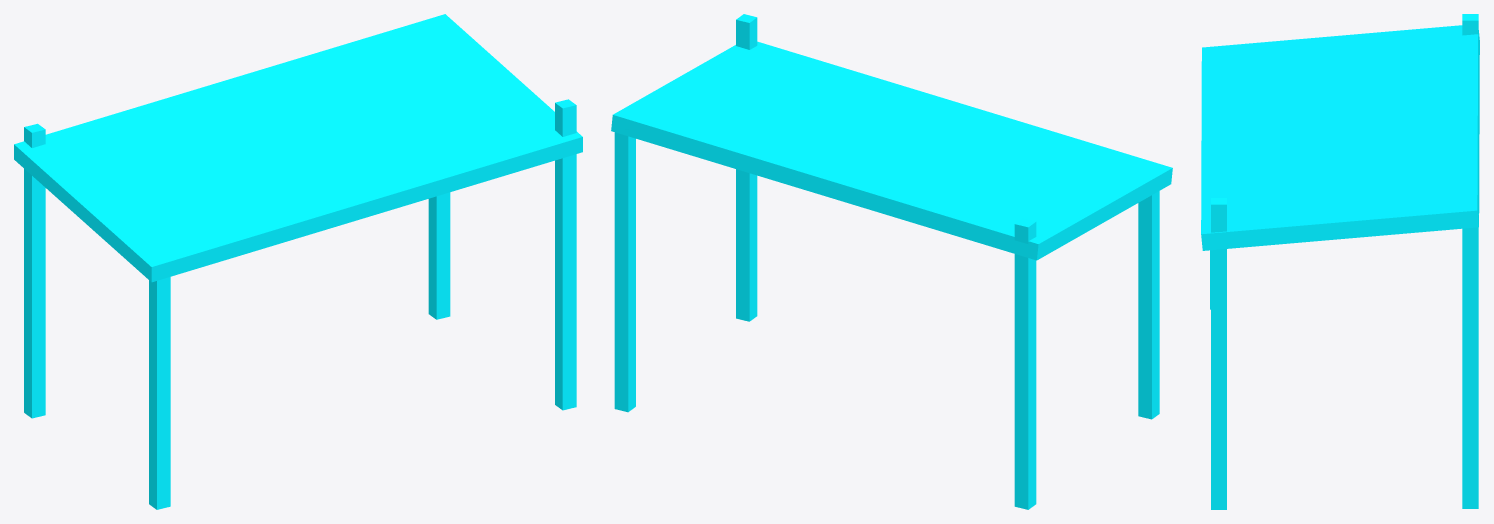
The model's file is SM_Bld_Awning_13_Collision.fbx.
3 views of the same model, side by side, from view 1: azimuth 30°, elevation 25°; view 2: azimuth 150°, elevation 25°; view 3: azimuth 270°, elevation 25° (orthographic). The views are drawn at different scales.
Parts seen in each view (by area): view 1: SM_Bld_Awning_13_Collision; view 2: SM_Bld_Awning_13_Collision; view 3: SM_Bld_Awning_13_Collision.
Boxes of the visible parts, x1,y1,x2,y2 form: SM_Bld_Awning_13_Collision: [14, 14, 582, 509]; SM_Bld_Awning_13_Collision: [611, 14, 1172, 509]; SM_Bld_Awning_13_Collision: [1201, 14, 1479, 509].
Bounding box in the file's own units: 548 × 365 × 302.
